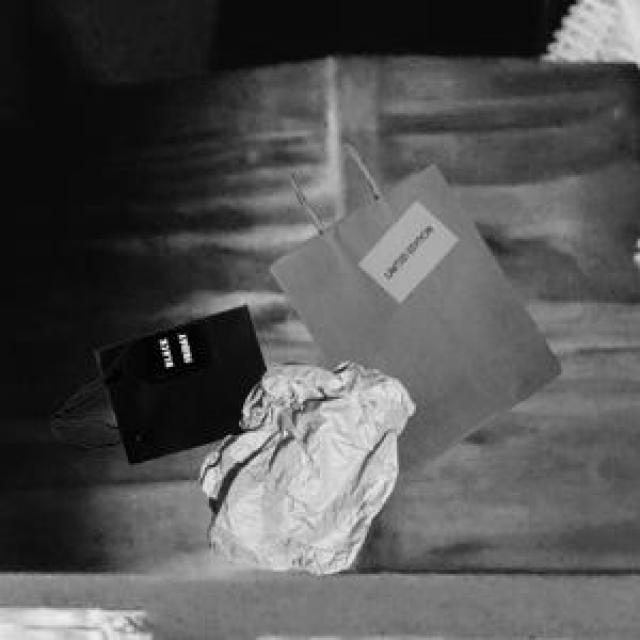paper: (267, 139, 557, 474), (196, 356, 410, 572), (47, 301, 262, 461)
